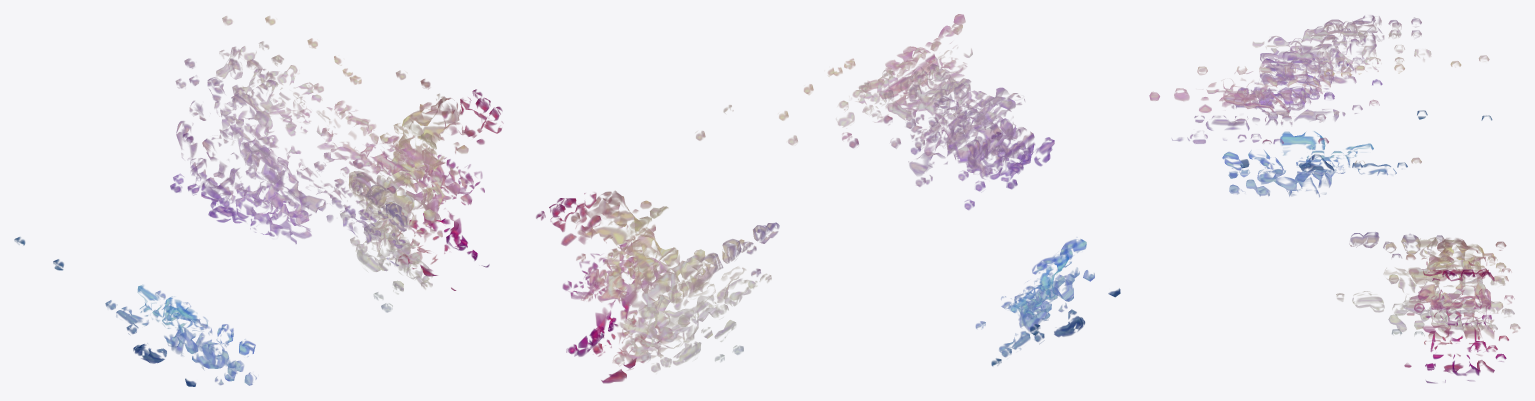
Rendered from cassiopeia_fekcorr.glb.
3 renders of one model, left to right at view 1: azimuth 30°, elevation 25°; view 2: azimuth 150°, elevation 25°; view 3: azimuth 270°, elevation 25°, orthographic. The views are drawn at different scales.
Parts seen in each view (by area): view 1: Fekcorr.002_baked; view 2: Fekcorr.002_baked; view 3: Fekcorr.002_baked.
Part boxes in pixels (left/top/right/bottom): Fekcorr.002_baked: left=14, top=16, right=502, bottom=386; Fekcorr.002_baked: left=536, top=14, right=1120, bottom=383; Fekcorr.002_baked: left=1149, top=15, right=1520, bottom=383.
Bounding box in the file's own units: 89.98 × 57.77 × 73.75.
Materials: 1 (1 with a texture image).
